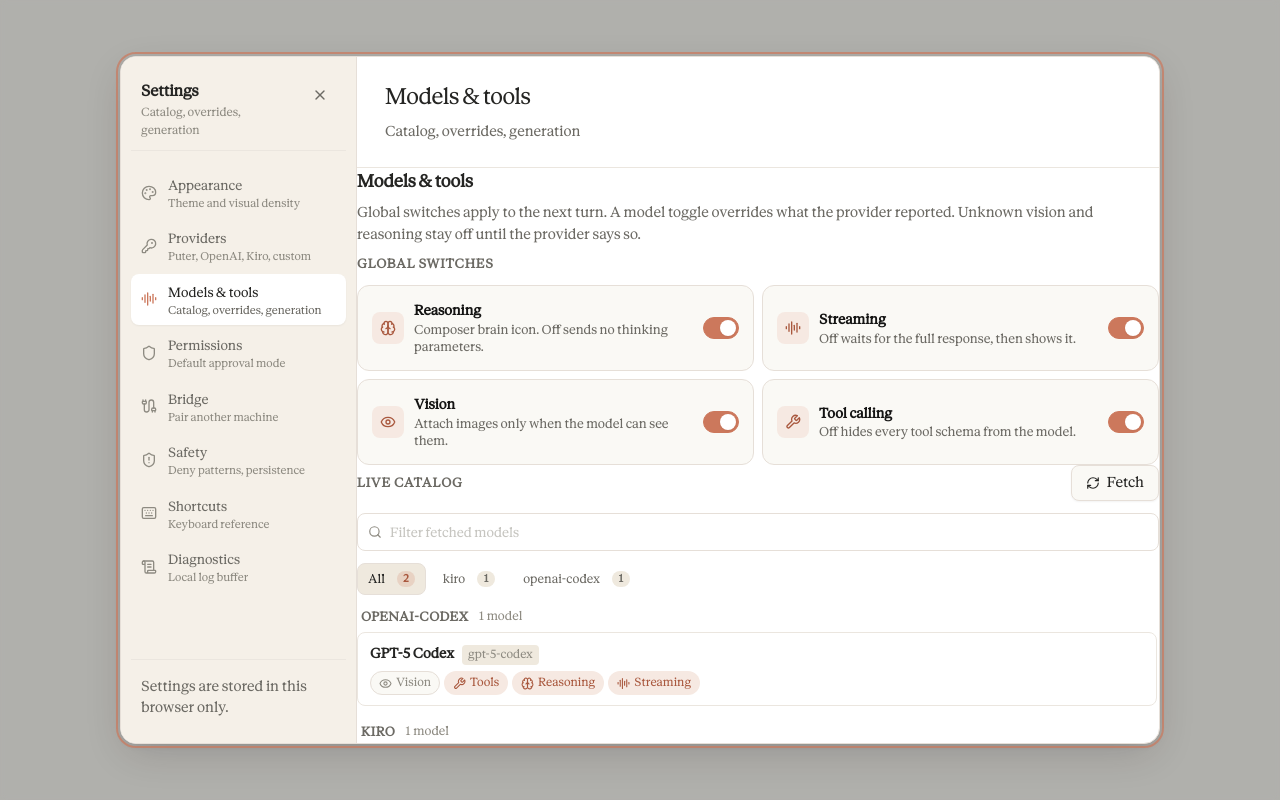
settings dialog › groups the model catalog by provider and filters per provider
The image size is (1280, 800).
Expected: the text "GPT-5 Codex" is shown, [370,643,454,664]
Click the tab "kiro 1".
click(469, 579)  # box [432,563,506,595]
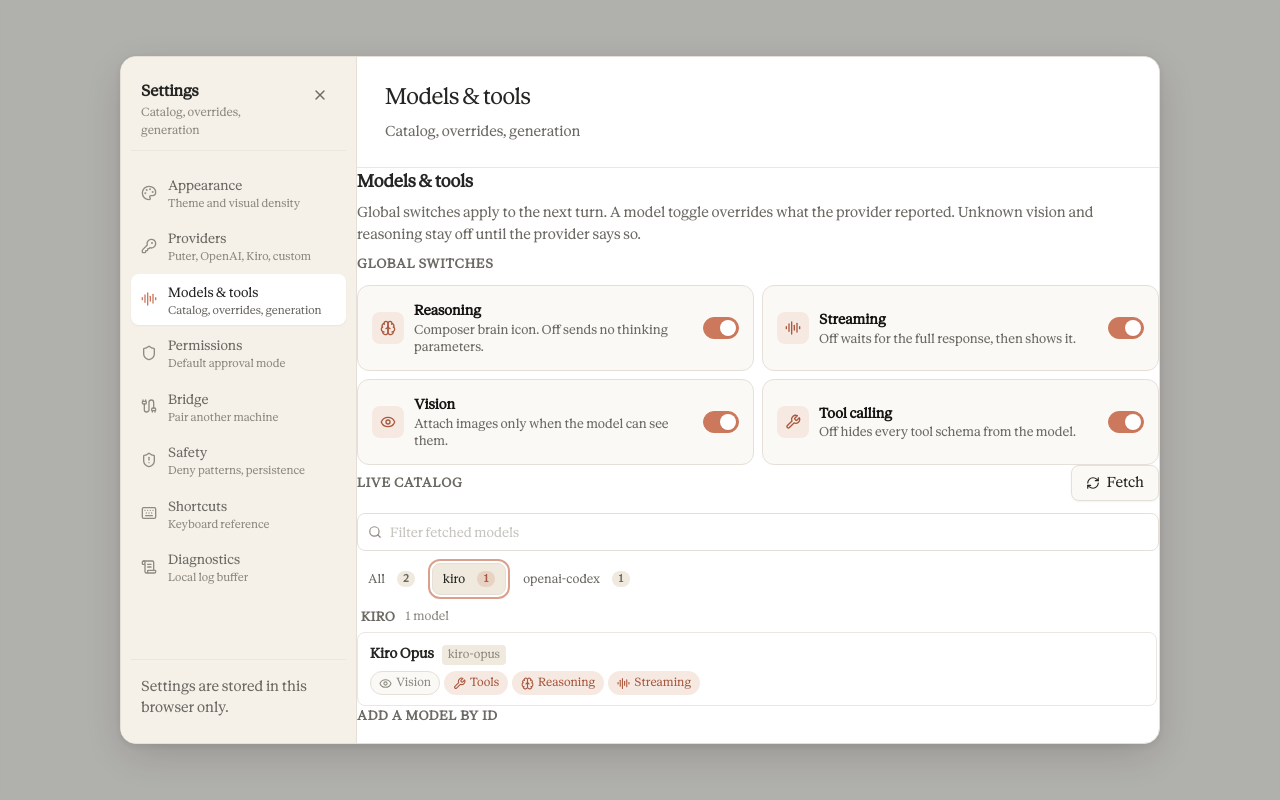
Expected: the text "Kiro Opus" is shown, [370,643,434,664]
Expected: the text "GPT-5 Codex" is gone
